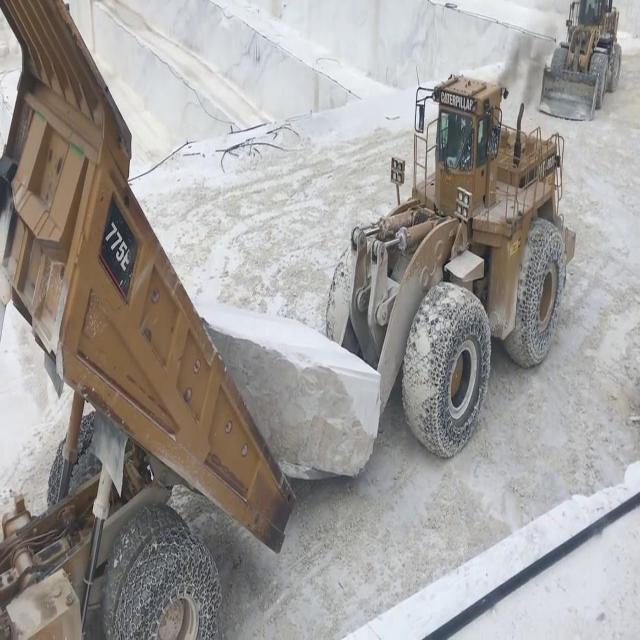Dump Truck: (0, 0, 296, 637)
Loader: (325, 75, 573, 456), (540, 0, 620, 120)
